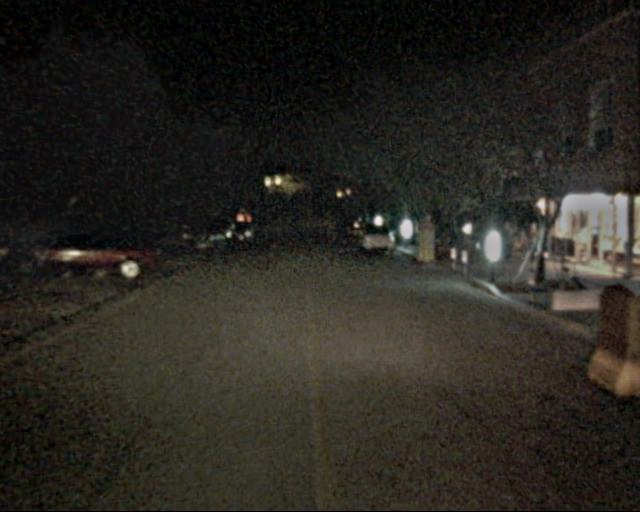person: (498, 218, 519, 269), (522, 220, 542, 269)
